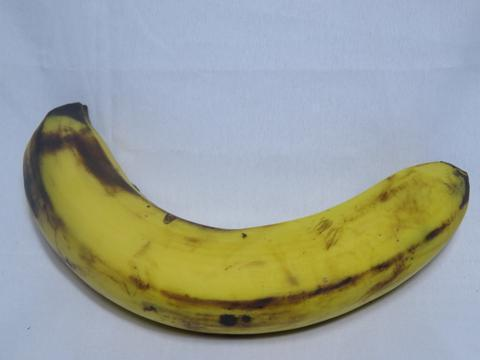ripe: (15, 84, 479, 344)
